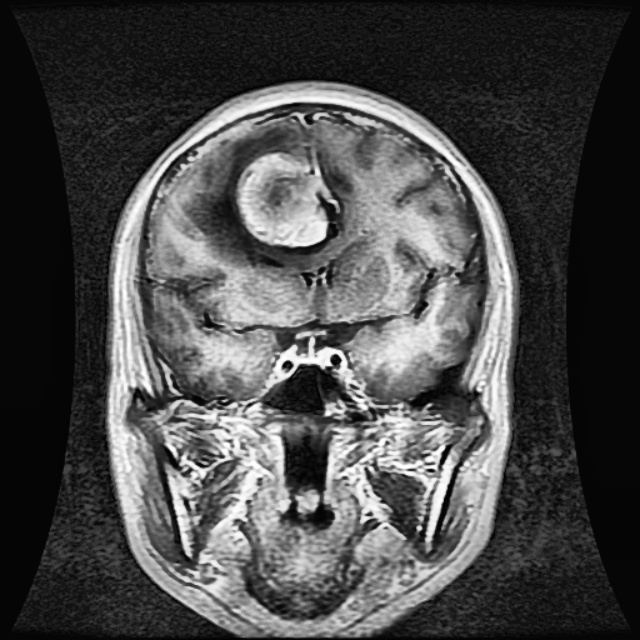Glioma: (235, 150, 339, 245)
